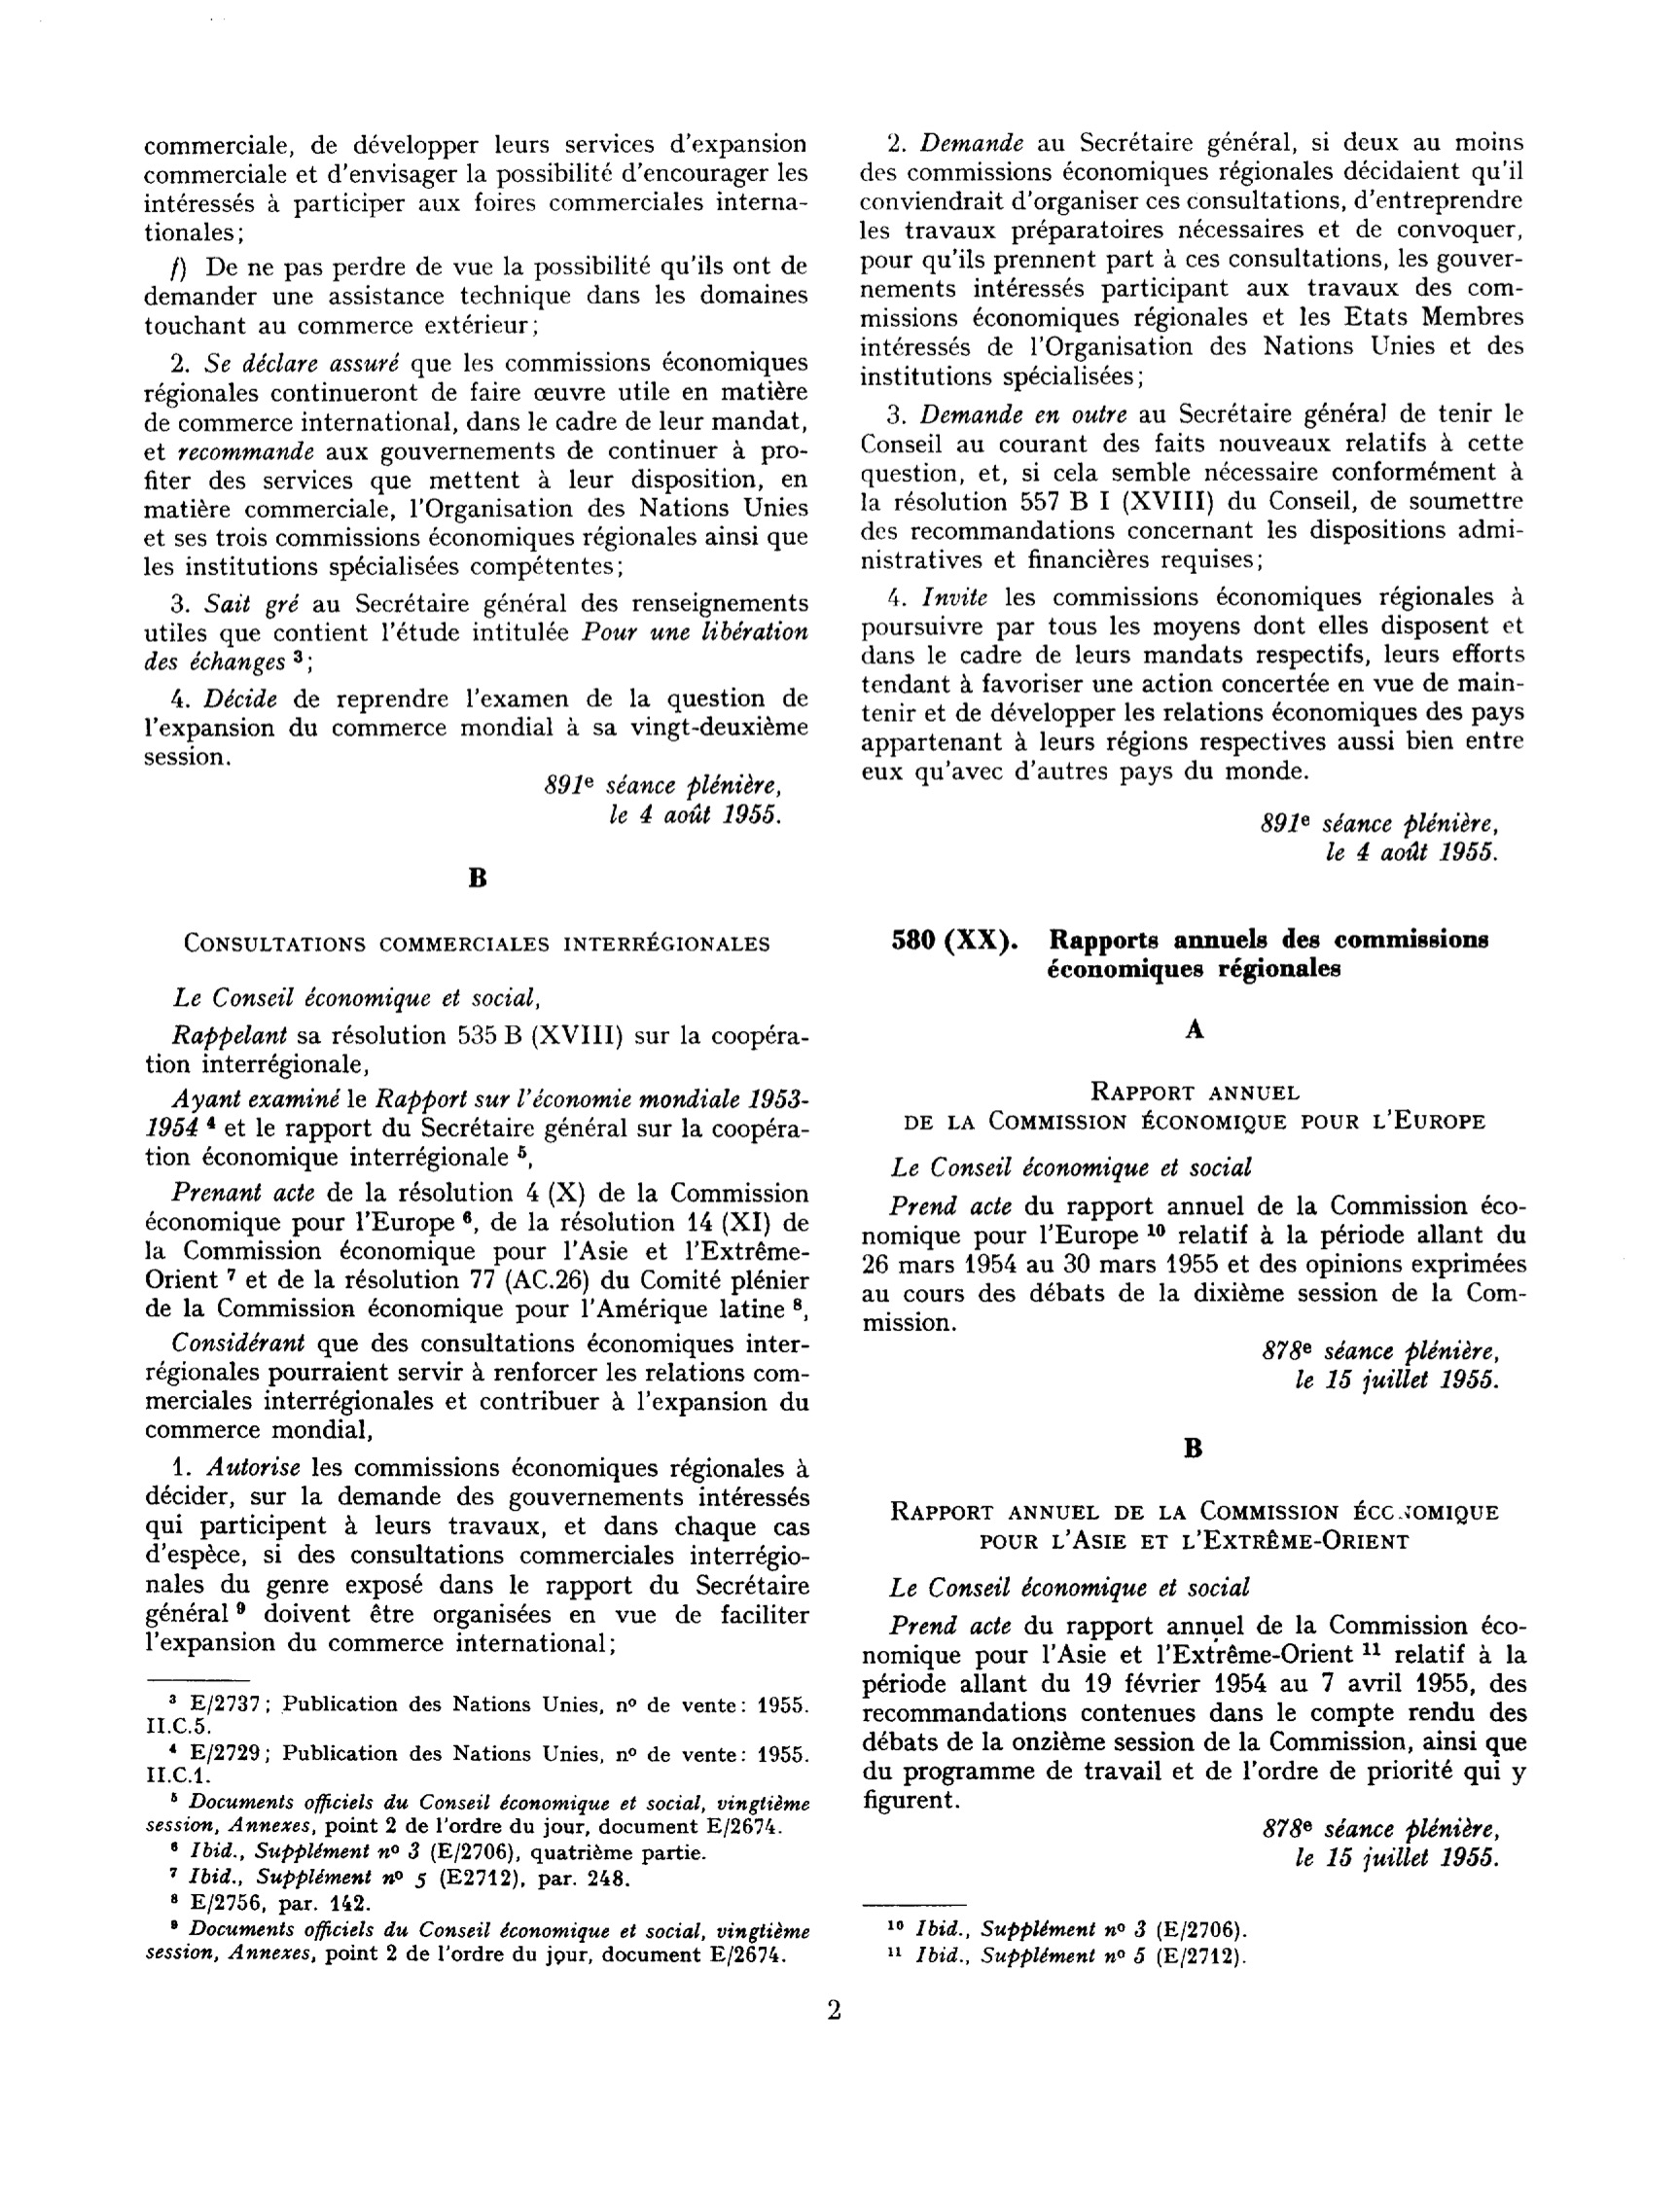MainZone-Continued: (134, 125, 815, 247)
MainZone-Date: (583, 800, 801, 833), (1286, 1361, 1502, 1394), (1316, 839, 1508, 863)
MainZone-Head: (883, 916, 1498, 992), (881, 1490, 1509, 1558), (892, 1071, 1499, 1139), (155, 922, 776, 967), (462, 858, 495, 899), (1179, 1429, 1207, 1467), (1179, 1012, 1211, 1043)
MainZone-ListItem: (853, 124, 1534, 392), (135, 346, 818, 582), (137, 1450, 818, 1664), (856, 582, 1533, 791), (855, 396, 1533, 575), (135, 249, 816, 344), (134, 587, 817, 681), (134, 683, 817, 776)
MainZone-P: (857, 1608, 1535, 1817), (856, 1189, 1534, 1342), (135, 1177, 815, 1325), (135, 1328, 816, 1447), (138, 1083, 813, 1174), (137, 1020, 810, 1082), (138, 978, 556, 1017), (873, 1147, 1263, 1185), (874, 1568, 1267, 1605)
MainZone-Signature: (1253, 1809, 1512, 1881), (533, 769, 795, 798), (1255, 1338, 1504, 1368), (1247, 810, 1512, 837)
MarginTextZone-Notes: (137, 1915, 818, 1974), (137, 1685, 816, 1738), (136, 1738, 819, 1790), (136, 1788, 819, 1837), (138, 1835, 739, 1866), (136, 1888, 815, 1916), (138, 1863, 699, 1889), (876, 1909, 1259, 1944), (879, 1941, 1256, 1976)
NumberingZone: (820, 1992, 849, 2029)
